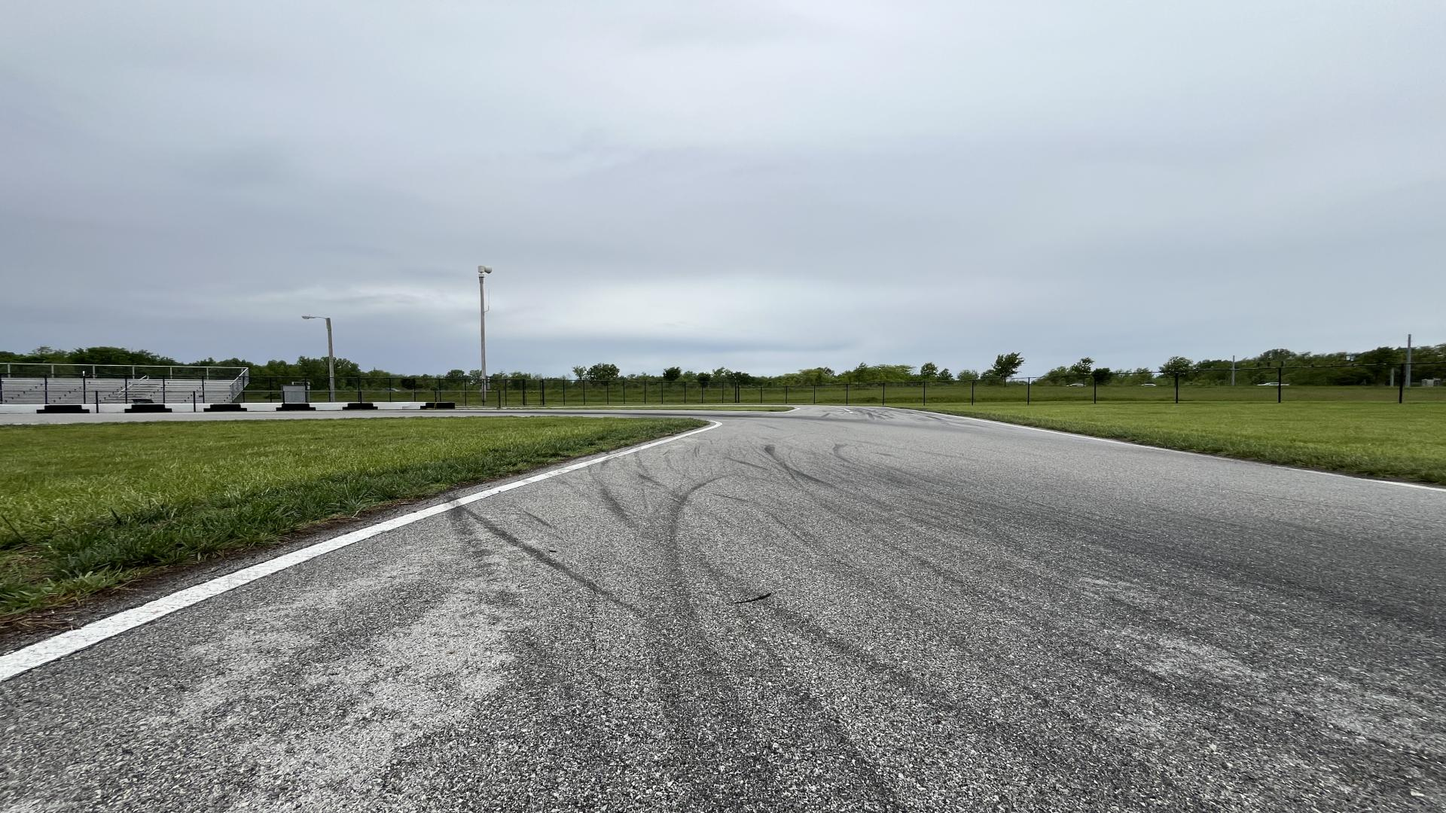white-line: (0, 421, 722, 680), (854, 406, 1445, 492), (558, 408, 800, 413), (836, 408, 854, 413)
